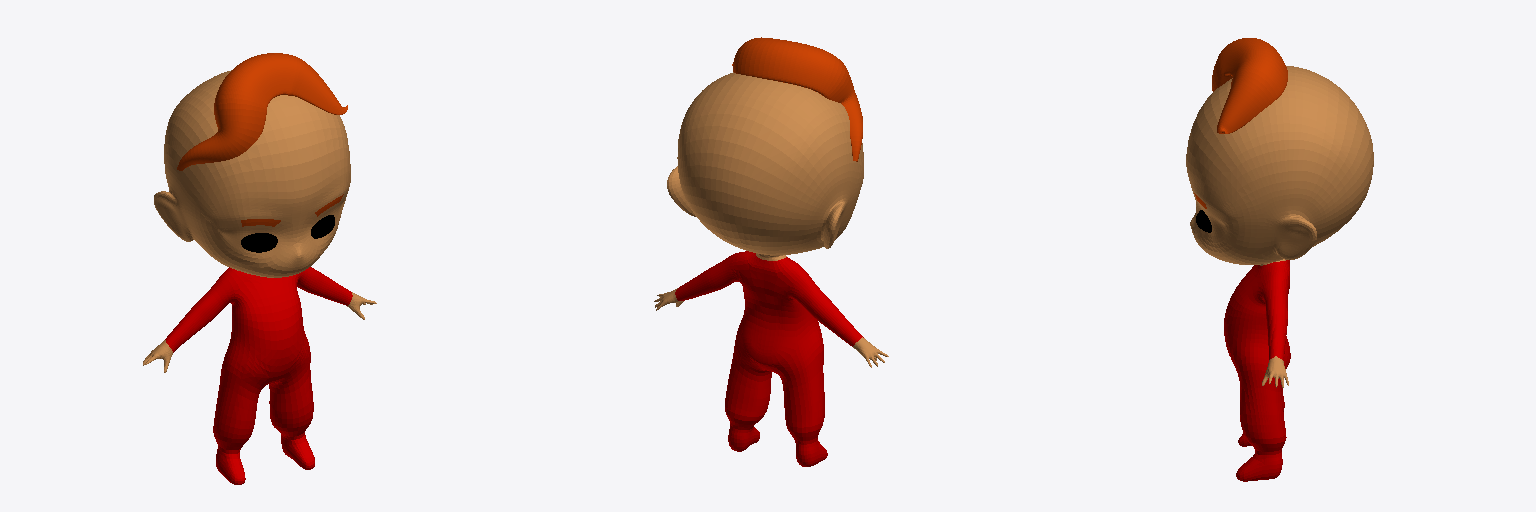
File: pjboy.obj
The picture shows the model from 3 angles: view 1: azimuth 30°, elevation 25°; view 2: azimuth 150°, elevation 25°; view 3: azimuth 270°, elevation 25°; orthographic projection.
Parts seen in each view (by area): view 1: Retopology; view 2: Retopology; view 3: Retopology.
Part boxes in pixels (left/top/right/bottom): Retopology: left=143, top=53, right=376, bottom=484; Retopology: left=654, top=37, right=888, bottom=466; Retopology: left=1186, top=38, right=1373, bottom=481.
Bounding box in the file's own units: 1.03 × 1.76 × 0.723.